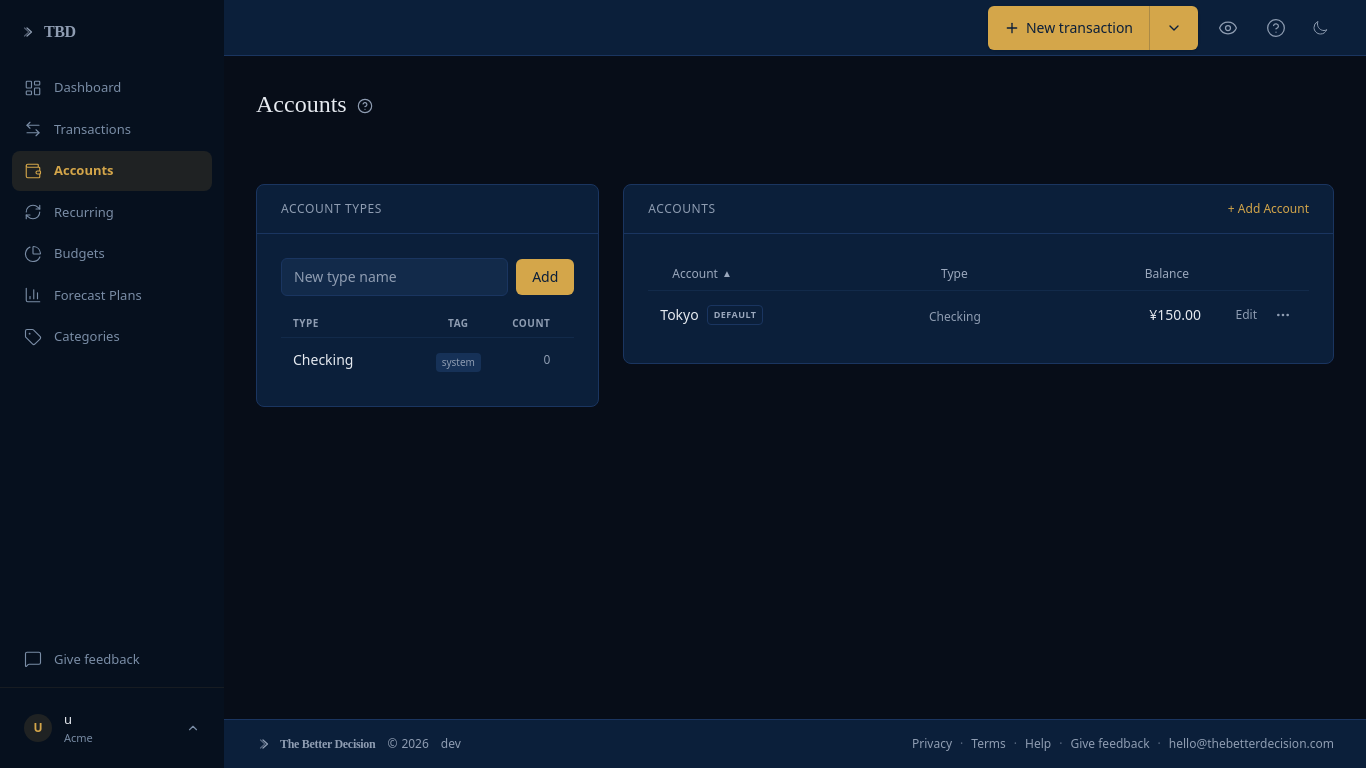
Test case: an org that already has an account cannot choose again › renders the settled currency read-only, with its symbol
Click the button "+ Add Account" at (1268, 209), box [1228, 201, 1309, 217]
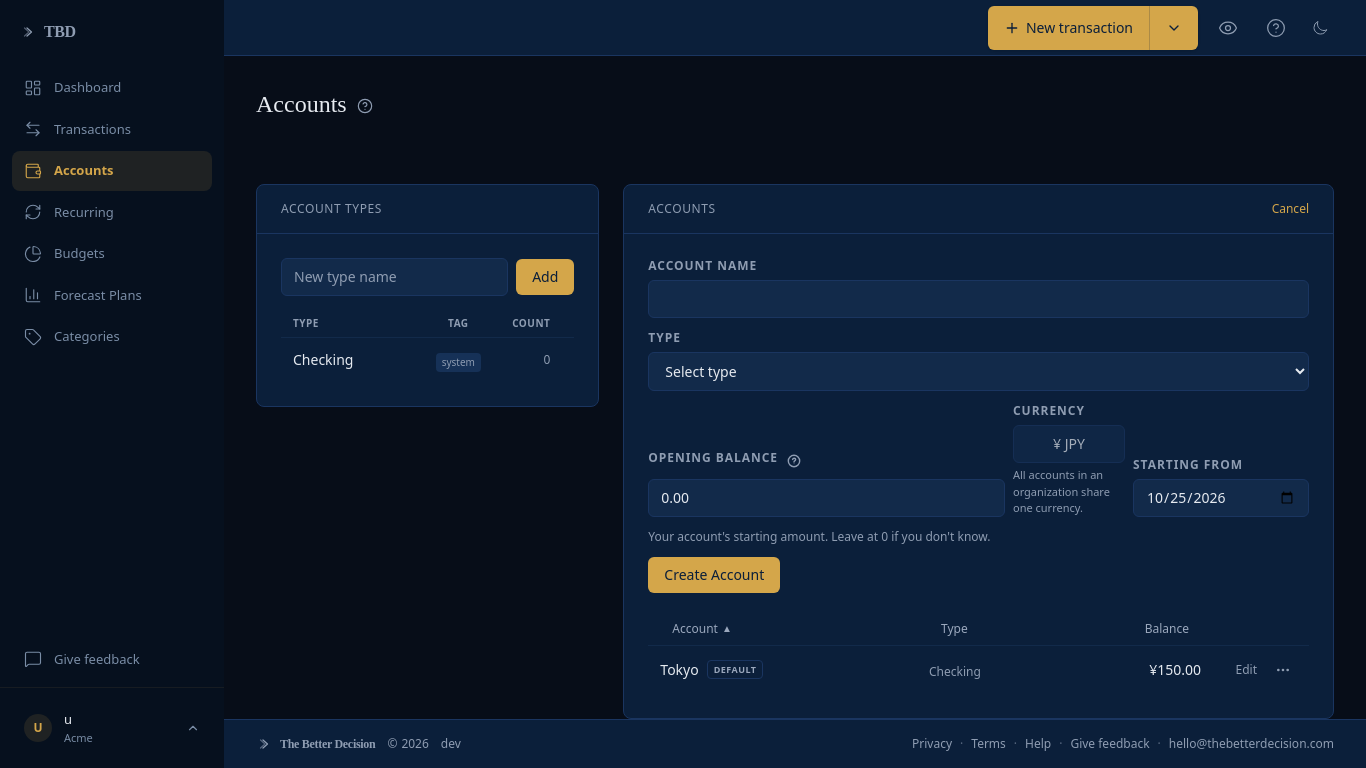
Now the field labelled "Currency" holds "¥ JPY", box [1013, 425, 1125, 463]
